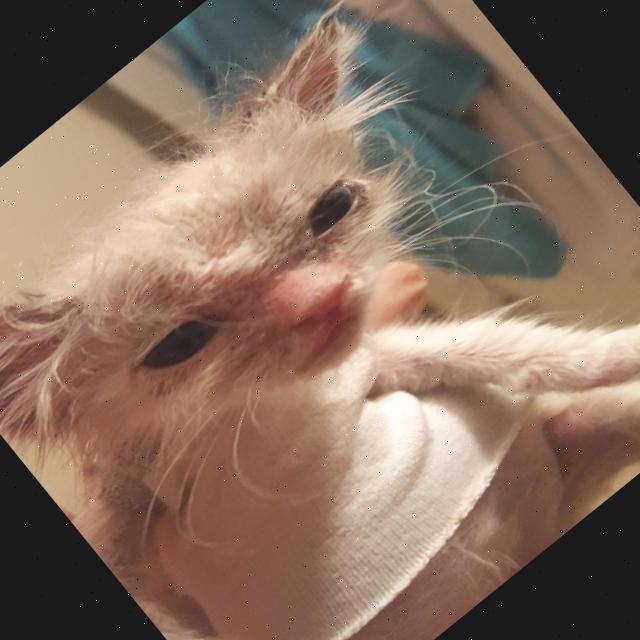cat-scabies: (146, 120, 416, 367), (229, 0, 390, 140)
